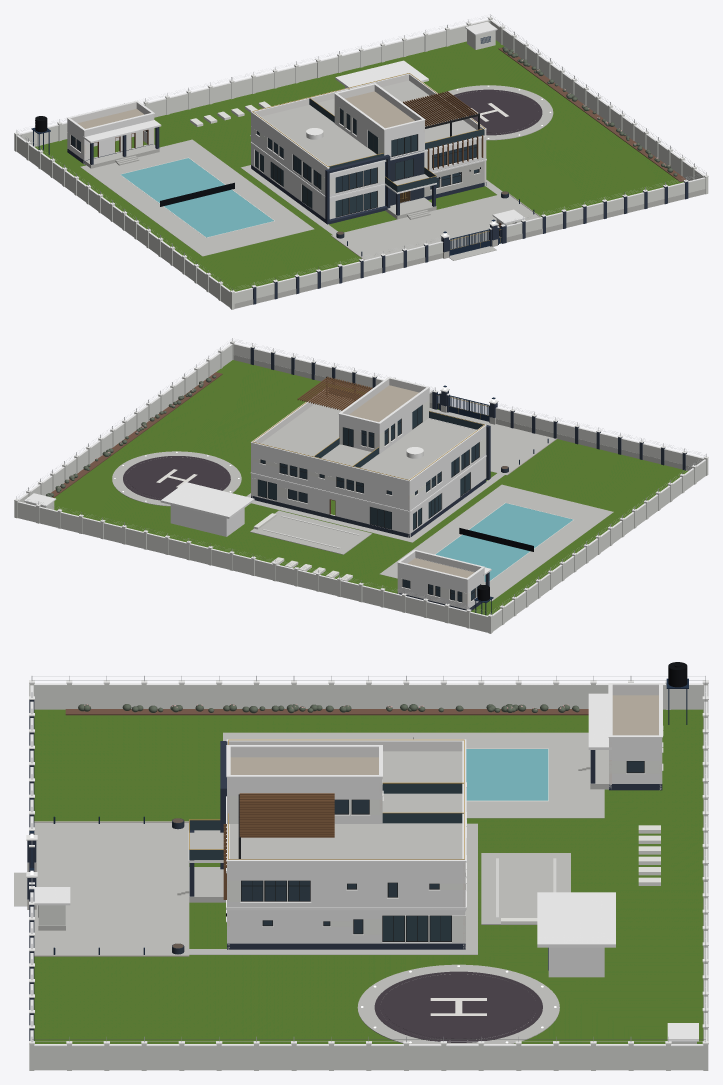
Rendered from est_S9.glb.
3 views of the same model, one above another, from view 1: azimuth 30°, elevation 25°; view 2: azimuth 150°, elevation 25°; view 3: azimuth 270°, elevation 25° (orthographic). The views are drawn at different scales.
Parts seen in each view (by area): view 1: GR_est_S9, GD_est_S9, GT_est_S9; view 2: GR_est_S9, GD_est_S9, GT_est_S9; view 3: GR_est_S9, GD_est_S9.
Boxes of the visible parts, box(x1,y1,x2,y2) form: GR_est_S9: box(14, 18, 708, 309); GD_est_S9: box(14, 14, 708, 292); GT_est_S9: box(450, 227, 501, 255); GR_est_S9: box(14, 342, 708, 633); GD_est_S9: box(14, 338, 708, 616); GT_est_S9: box(437, 393, 488, 421); GR_est_S9: box(14, 683, 708, 1070); GD_est_S9: box(26, 662, 708, 1044).
Size of the model in its own units: 76.55 by 13.93 by 61.88.
8 materials, 2 textured.
